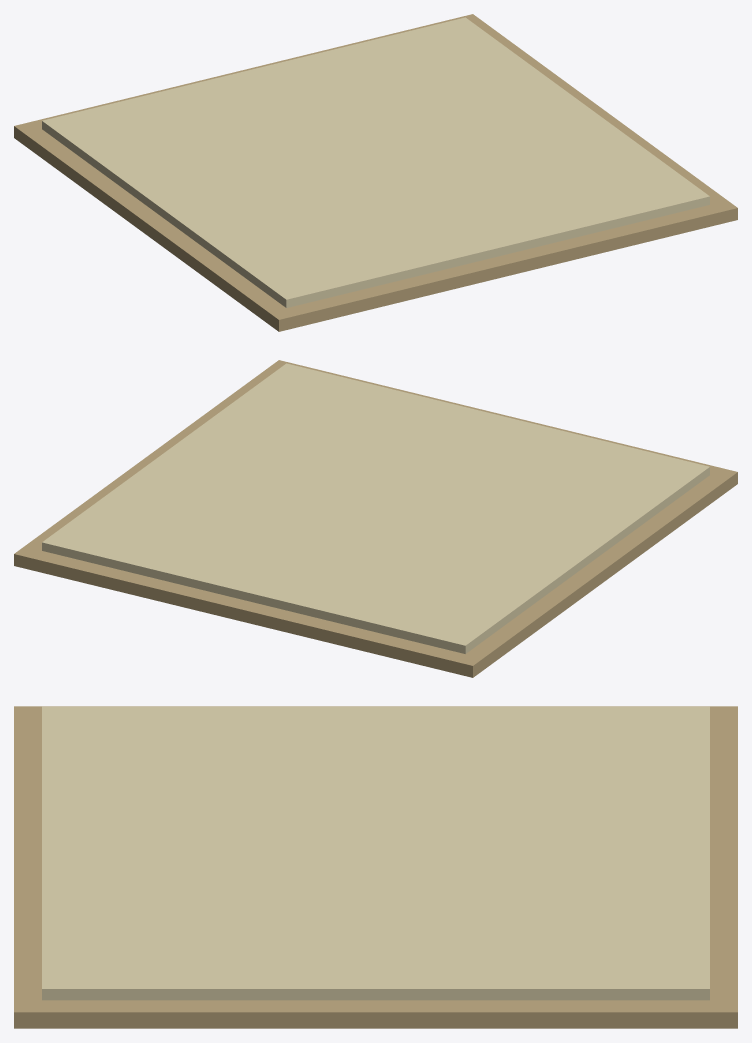
The model's file is FloorBlock_02.glb.
3 views of the same model, one above another, from view 1: azimuth 30°, elevation 25°; view 2: azimuth 150°, elevation 25°; view 3: azimuth 270°, elevation 25° (orthographic). The views are drawn at different scales.
Visible parts, largest first — view 1: Floor_Block_02; view 2: Floor_Block_02; view 3: Floor_Block_02.
Boxes of the visible parts, left/top/right/bottom form: Floor_Block_02: left=14, top=14, right=737, bottom=331; Floor_Block_02: left=14, top=360, right=737, bottom=677; Floor_Block_02: left=14, top=706, right=737, bottom=1028.
Bounding box in the file's own units: 2 × 0.085 × 2.
1 material, 1 textured.
